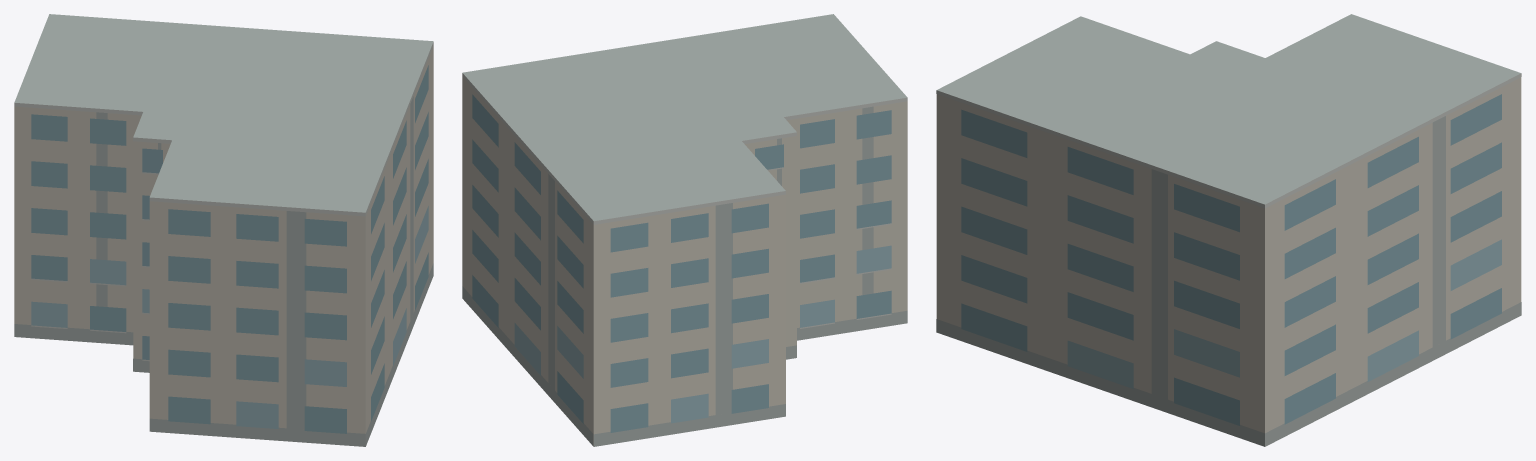
File: residential-7335c436-4d5e-417a-ac56-6f05601d20c2.glb
3 views of the same model, side by side, from view 1: azimuth 30°, elevation 25°; view 2: azimuth 150°, elevation 25°; view 3: azimuth 270°, elevation 25° (orthographic). The views are drawn at different scales.
Visible parts, largest first — view 1: residential-7335c436-4d5e-417a-ac56-6f05601d20c2.tmp; view 2: residential-7335c436-4d5e-417a-ac56-6f05601d20c2.tmp; view 3: residential-7335c436-4d5e-417a-ac56-6f05601d20c2.tmp.
Boxes of the visible parts, x1=… form: residential-7335c436-4d5e-417a-ac56-6f05601d20c2.tmp: x1=14, y1=14, x2=433, y2=446; residential-7335c436-4d5e-417a-ac56-6f05601d20c2.tmp: x1=462, y1=14, x2=907, y2=446; residential-7335c436-4d5e-417a-ac56-6f05601d20c2.tmp: x1=936, y1=14, x2=1521, y2=446.
Bounding box in the file's own units: 25.74 × 15.25 × 33.37.
